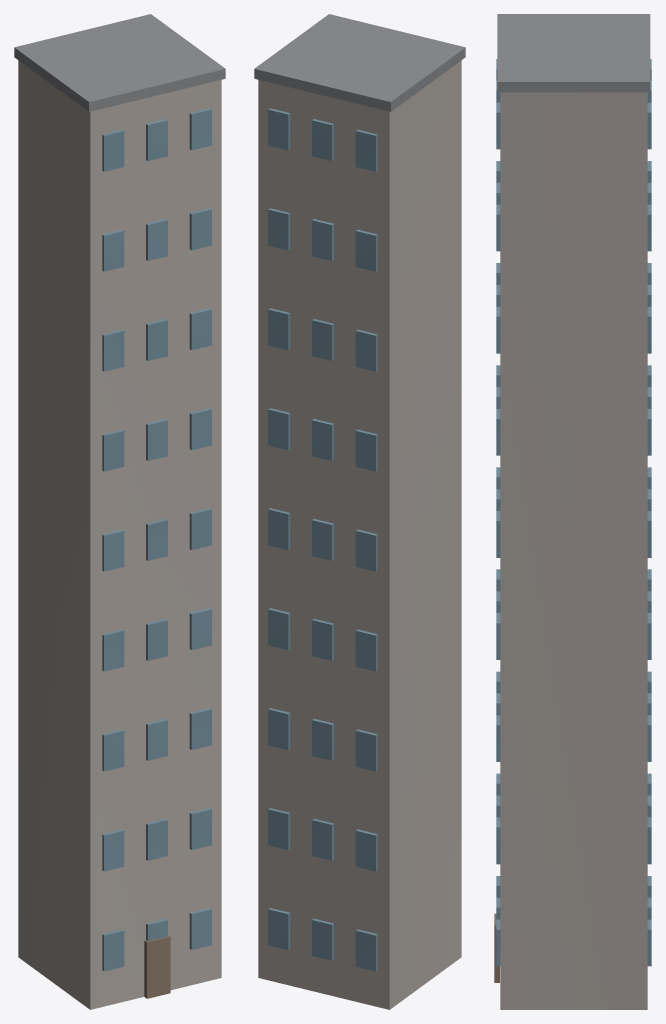
Rendered from tower-03.glb.
The picture shows the model from 3 angles, left to right: view 1: azimuth 30°, elevation 25°; view 2: azimuth 150°, elevation 25°; view 3: azimuth 270°, elevation 25°; orthographic projection. The views are drawn at different scales.
Visible parts, largest first — view 1: world; view 2: world; view 3: world.
Boxes of the visible parts, bbox=[...] form: world: bbox=[14, 14, 225, 1009]; world: bbox=[254, 14, 465, 1009]; world: bbox=[494, 14, 651, 1009].
Size of the model in its own units: 1.01 by 6.44 by 0.9873.
